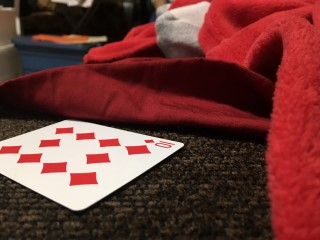TenOfDiamonds: (1, 116, 184, 212)
